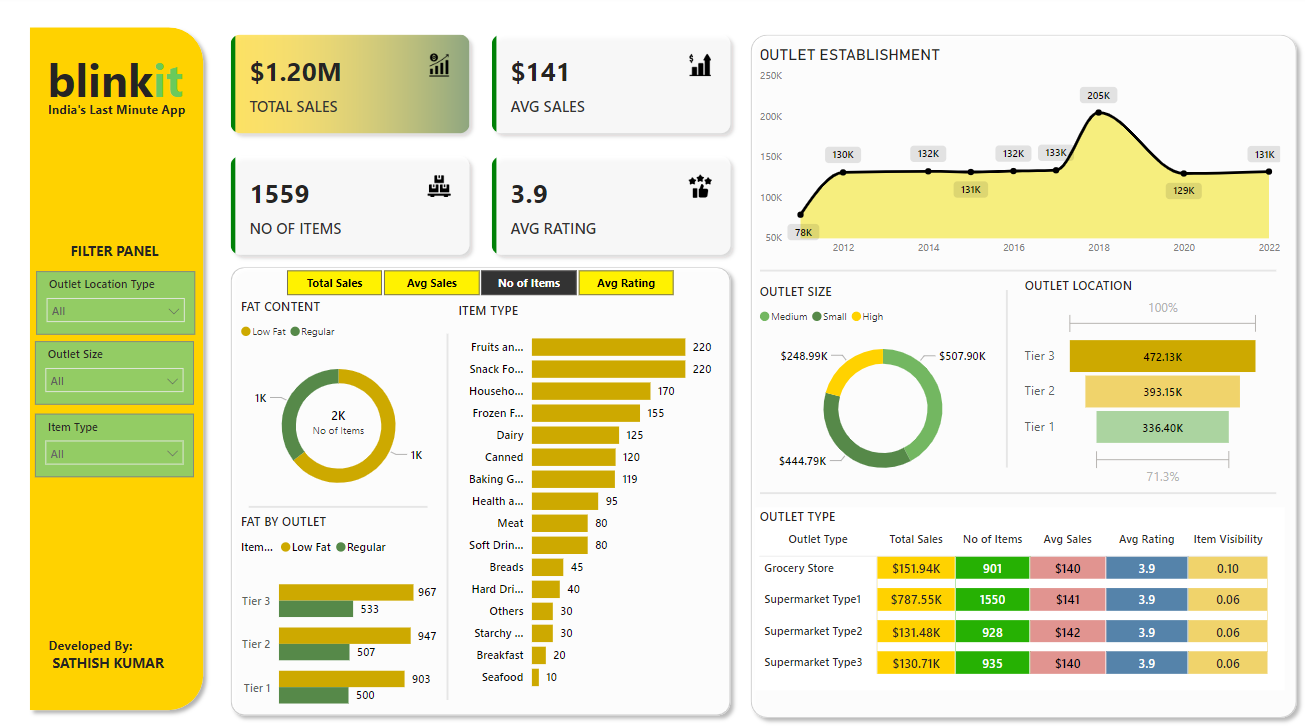

Layout of this report page (visuals, bound fields, positions):
{"tool":"powerbi","page":{"name":"Page 1","canvas":[1400,800],"ordinal":0},"visuals":[{"type":"shape","box":[22.5,25.5,204.1,750.4],"z":0},{"type":"textbox","box":[39,52.5,169.6,85.5],"z":1000},{"type":"textbox","box":[39,108.1,172.6,30],"z":2000},{"type":"cardVisual","fields":{"Data":["Calculation.Total Sales","Calculation.Avg Sales","Calculation.No of Items","Calculation.Avg Rating"]},"box":[230.6,25.5,571,270.8],"z":3000},{"type":"shape","box":[238.6,282.8,553.6,498.7],"z":4000},{"type":"donutChart","title":"FAT CONTENT","fields":{"Y":["Calculation.No of Items"],"Category":["BlinkIT Grocery Data.Item Fat Content"]},"box":[253.4,324.4,219.8,230.6],"z":5000},{"type":"slicer","fields":{"Values":["Metrics.Metrics"]},"box":[281.5,288.2,465.1,40.2],"z":6000},{"type":"cardVisual","fields":{"Data":["Calculation.No of Items"]},"box":[303,420.9,120.6,73.7],"z":7000},{"type":"clusteredBarChart","title":"FAT BY OUTLET","fields":{"Y":["Calculation.No of Items"],"Category":["BlinkIT Grocery Data.Outlet Location Type"],"Series":["BlinkIT Grocery Data.Item Fat Content"]},"box":[253.4,555,219.8,230.6],"z":8000},{"type":"shape","box":[266.8,542.9,191.7,12.1],"z":9000},{"type":"shape","box":[473.2,363.3,13.4,392.8],"z":10000},{"type":"barChart","title":"ITEM TYPE","fields":{"Y":["Calculation.No of Items"],"Category":["BlinkIT Grocery Data.Item Type"]},"box":[486.6,328.4,285.5,427.6],"z":11000},{"type":"shape","box":[796.8,34,603.2,750.7],"z":12000},{"type":"lineChart","title":"OUTLET ESTABLISHMENT","fields":{"Category":["BlinkIT Grocery Data.Outlet Establishment Year"],"Y":["Sum(BlinkIT Grocery Data.Sales)"]},"box":[809.7,53.6,568.4,234.6],"z":13000},{"type":"shape","box":[815,289.5,553.6,12.1],"z":14000},{"type":"donutChart","title":"OUTLET SIZE","fields":{"Y":["Calculation.Total Sales"],"Category":["BlinkIT Grocery Data.Outlet Size"]},"box":[809.7,308.3,274.8,225.2],"z":15000},{"type":"shape","box":[1075.1,316.4,9.4,190.3],"z":16000},{"type":"funnel","title":"OUTLET LOCATION","fields":{"Category":["BlinkIT Grocery Data.Outlet Location Type"],"Y":["Sum(BlinkIT Grocery Data.Sales)"]},"box":[1093.8,301.6,262.7,230],"z":17000},{"type":"shape","box":[815,528.2,553.6,12.1],"z":18000},{"type":"pivotTable","title":"OUTLET TYPE","fields":{"Rows":["BlinkIT Grocery Data.Outlet Type"],"Values":["Calculation.Total Sales","Calculation.No of Items","Calculation.Avg Sales","Calculation.Avg Rating","Avg(BlinkIT Grocery Data.Item Visibility)"]},"box":[809.7,549.6,568.4,195.7],"z":19000},{"type":"slicer","fields":{"Values":["BlinkIT Grocery Data.Outlet Location Type"]},"box":[38.9,296.2,170.2,68.4],"z":20000},{"type":"slicer","fields":{"Values":["BlinkIT Grocery Data.Outlet Size"]},"box":[37.5,371.3,170.2,68.4],"z":21000},{"type":"slicer","fields":{"Values":["BlinkIT Grocery Data.Item Type"]},"box":[37.5,449.1,170.2,68.4],"z":22000},{"type":"textbox","box":[61.7,258.7,122,30.8],"z":23000},{"type":"textbox","box":[46.9,683.6,154.2,52.3],"z":24000}]}

Visuals, with their boxes in screenshot pixels (x1, y1, x2, y2), scaled from the page's 1400x800 canvas onto the 1305x727 screenshot:
shape: region(21, 23, 211, 705)
textbox: region(36, 48, 194, 125)
textbox: region(36, 98, 197, 125)
cardVisual - Calculation.Total Sales x Calculation.Avg Sales: region(215, 23, 747, 269)
shape: region(222, 257, 738, 710)
"FAT CONTENT" donutChart: region(236, 295, 441, 504)
slicer - Metrics.Metrics: region(262, 262, 696, 298)
cardVisual - Calculation.No of Items: region(282, 382, 395, 449)
"FAT BY OUTLET" clusteredBarChart: region(236, 504, 441, 714)
shape: region(249, 493, 427, 504)
shape: region(441, 330, 454, 687)
"ITEM TYPE" barChart: region(454, 298, 720, 687)
shape: region(743, 31, 1304, 713)
"OUTLET ESTABLISHMENT" lineChart: region(755, 49, 1285, 262)
shape: region(760, 263, 1276, 274)
"OUTLET SIZE" donutChart: region(755, 280, 1011, 485)
shape: region(1002, 288, 1011, 460)
"OUTLET LOCATION" funnel: region(1020, 274, 1264, 483)
shape: region(760, 480, 1276, 491)
"OUTLET TYPE" pivotTable: region(755, 499, 1285, 677)
slicer - BlinkIT Grocery Data.Outlet Location Type: region(36, 269, 195, 331)
slicer - BlinkIT Grocery Data.Outlet Size: region(35, 337, 194, 400)
slicer - BlinkIT Grocery Data.Item Type: region(35, 408, 194, 470)
textbox: region(58, 235, 171, 263)
textbox: region(44, 621, 187, 669)
